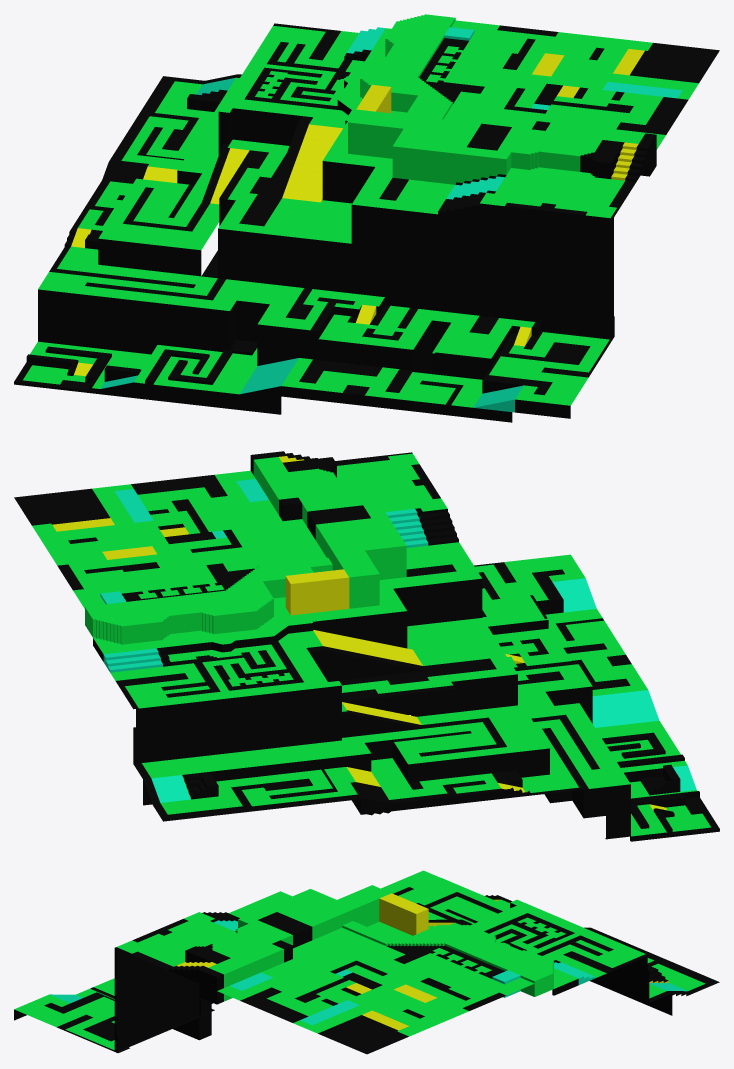
The model's file is Level_Combined.fbx.
The picture shows the model from 3 angles, top to bottom: view 1: azimuth 30°, elevation 25°; view 2: azimuth 150°, elevation 25°; view 3: azimuth 270°, elevation 25°; orthographic projection. The views are drawn at different scales.
Visible parts, largest first — view 1: pCube4; view 2: pCube4; view 3: pCube4.
Boxes of the visible parts, left/top/right/bottom form: pCube4: left=14, top=14, right=719, bottom=422; pCube4: left=14, top=451, right=719, bottom=841; pCube4: left=14, top=870, right=719, bottom=1054.
Bounding box in the file's own units: 283 × 68 × 283.
